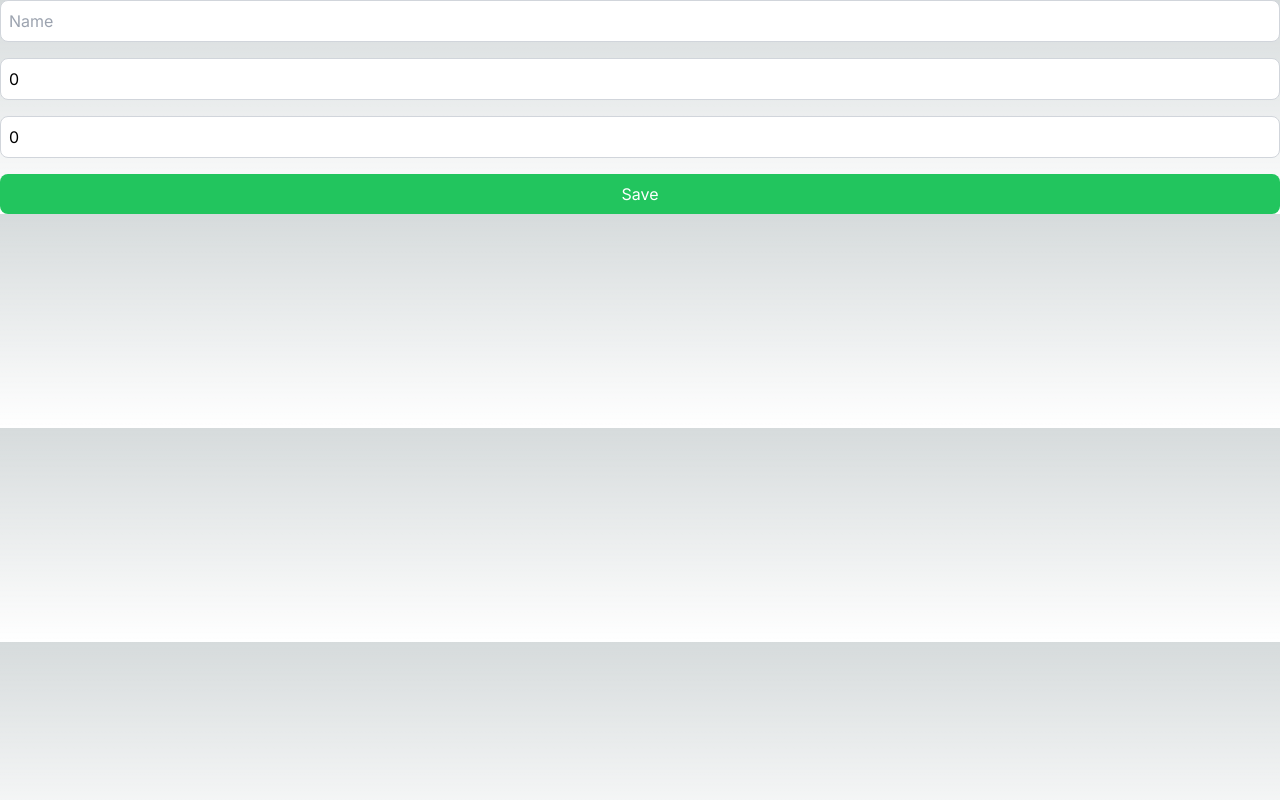
OrderForm › validates form fields and shows error messages
What coordinates should you click on to do the following:
click the button "Save"
I would click on:
 (640, 194)
Its box is [0, 174, 1279, 214].
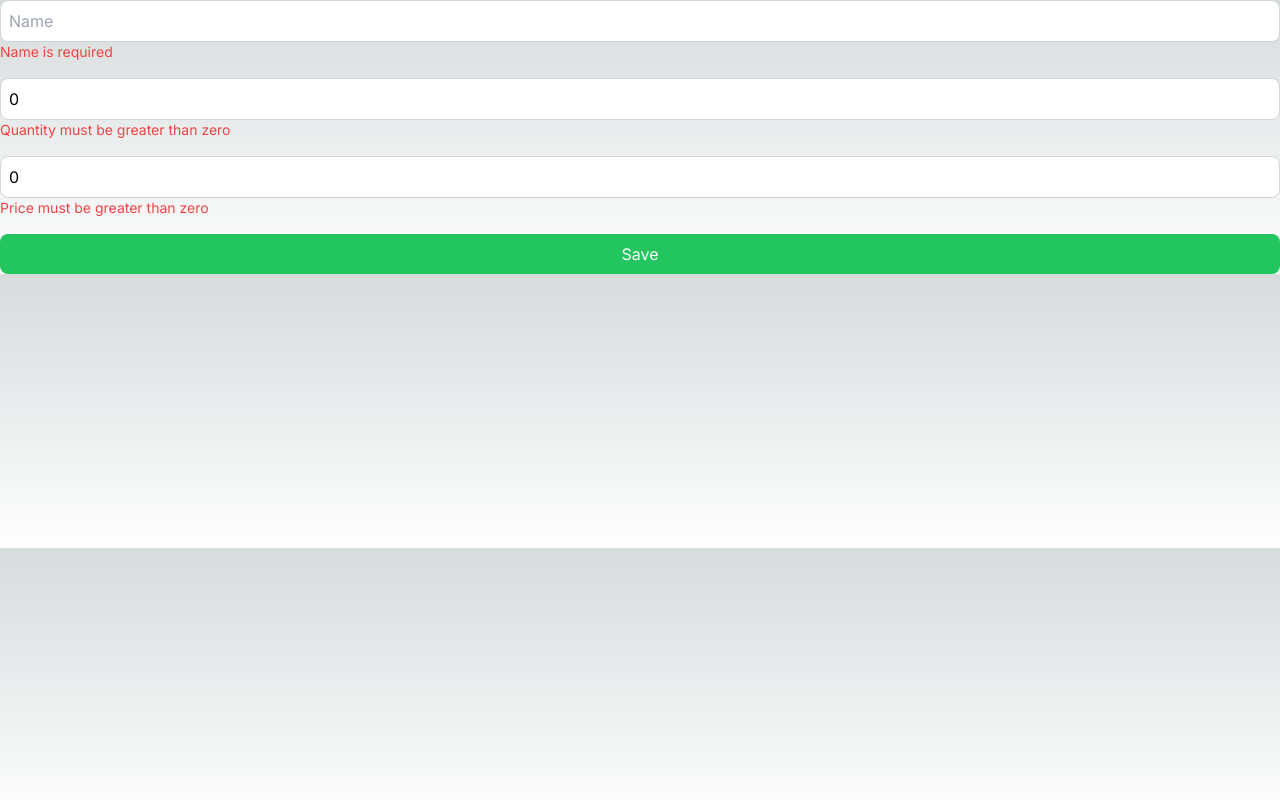
Now the text "Name is required" is shown, box [0, 43, 113, 60]
Now the text "Quantity must be greater than zero" is shown, box [0, 121, 230, 138]
Now the text "Price must be greater than zero" is shown, box [0, 199, 209, 216]
